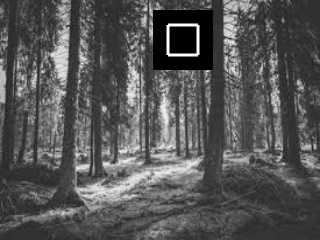square: (153, 10, 214, 70)
